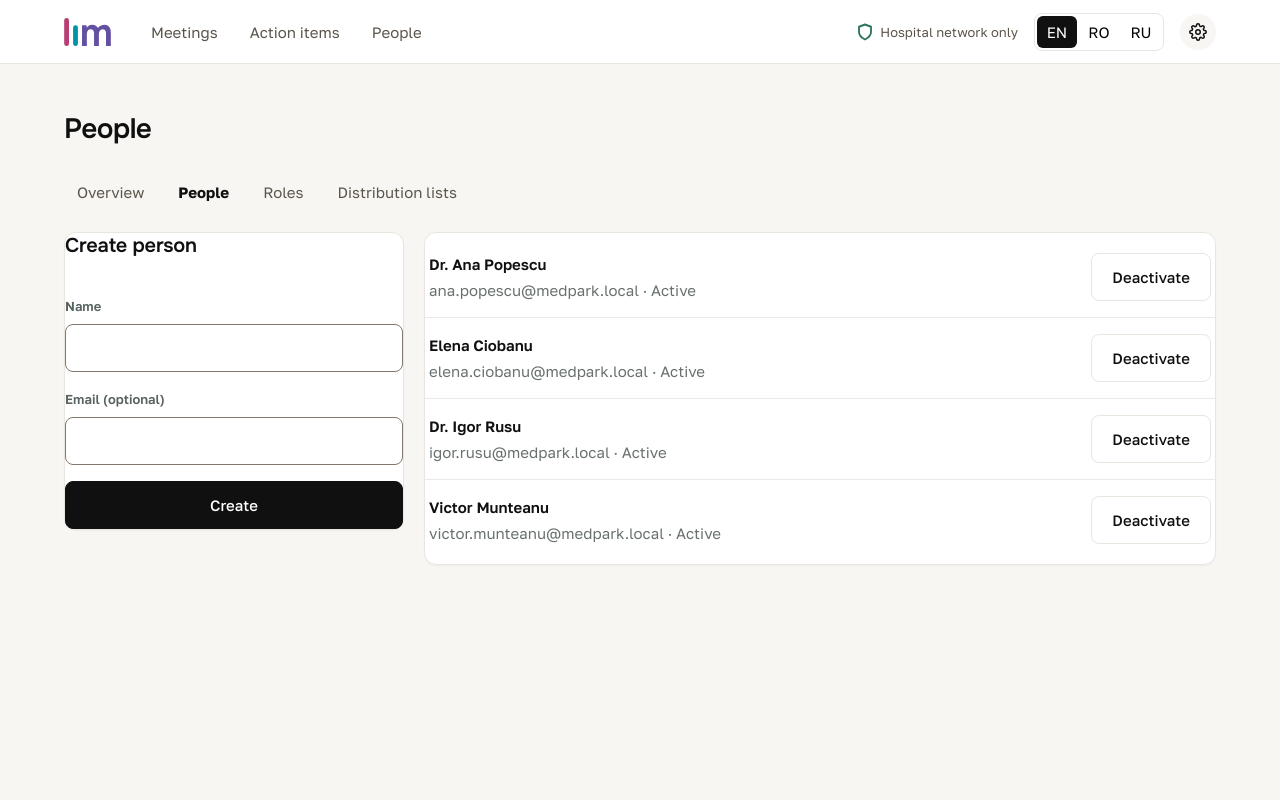
application flows › lets anyone add a person from the administration pages
Expected: the heading "People" is shown, [64,111,151,147]
Step 1. Type "Dr. Maria Lungu" into the field labelled "Name" → point(234, 348), box [65,324,403,372]
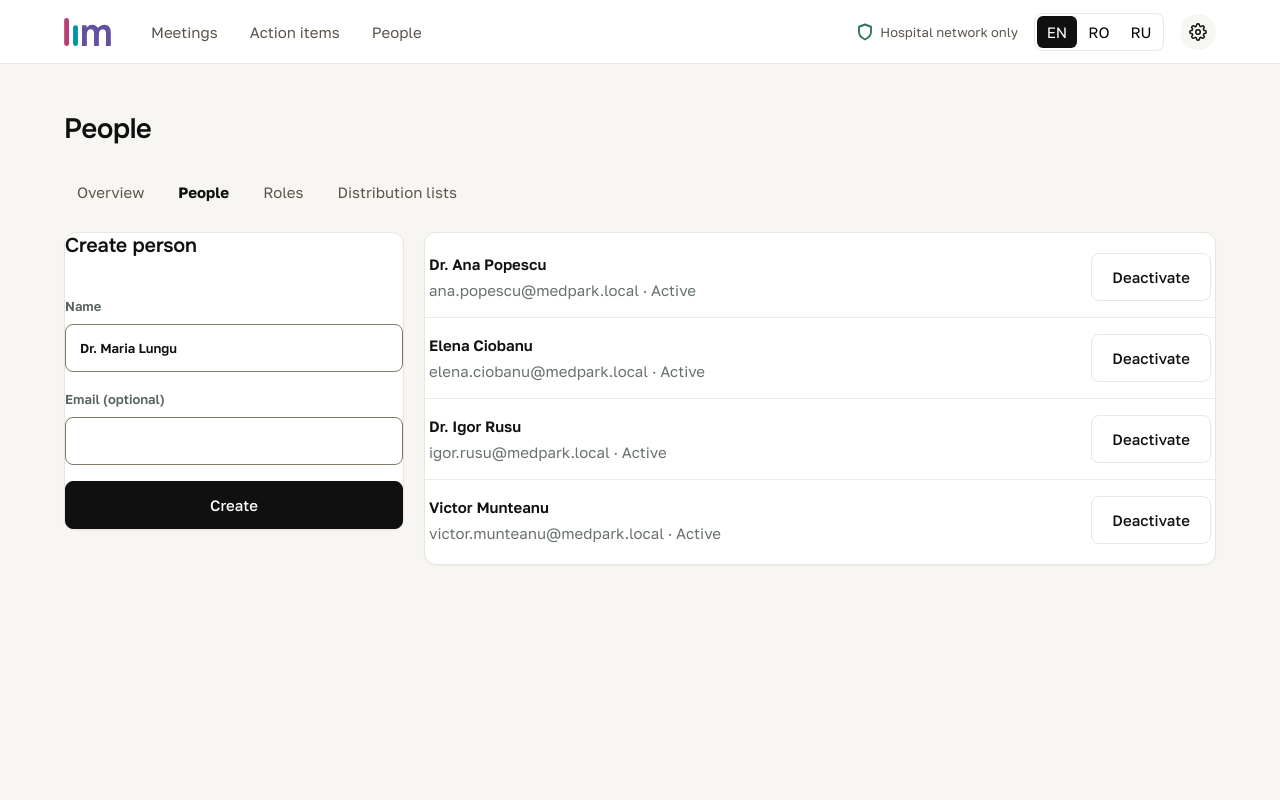
Step 2. Type "maria.lungu@medpark.local" into the field labelled "Email (optional)" → point(234, 441), box [65,417,403,465]
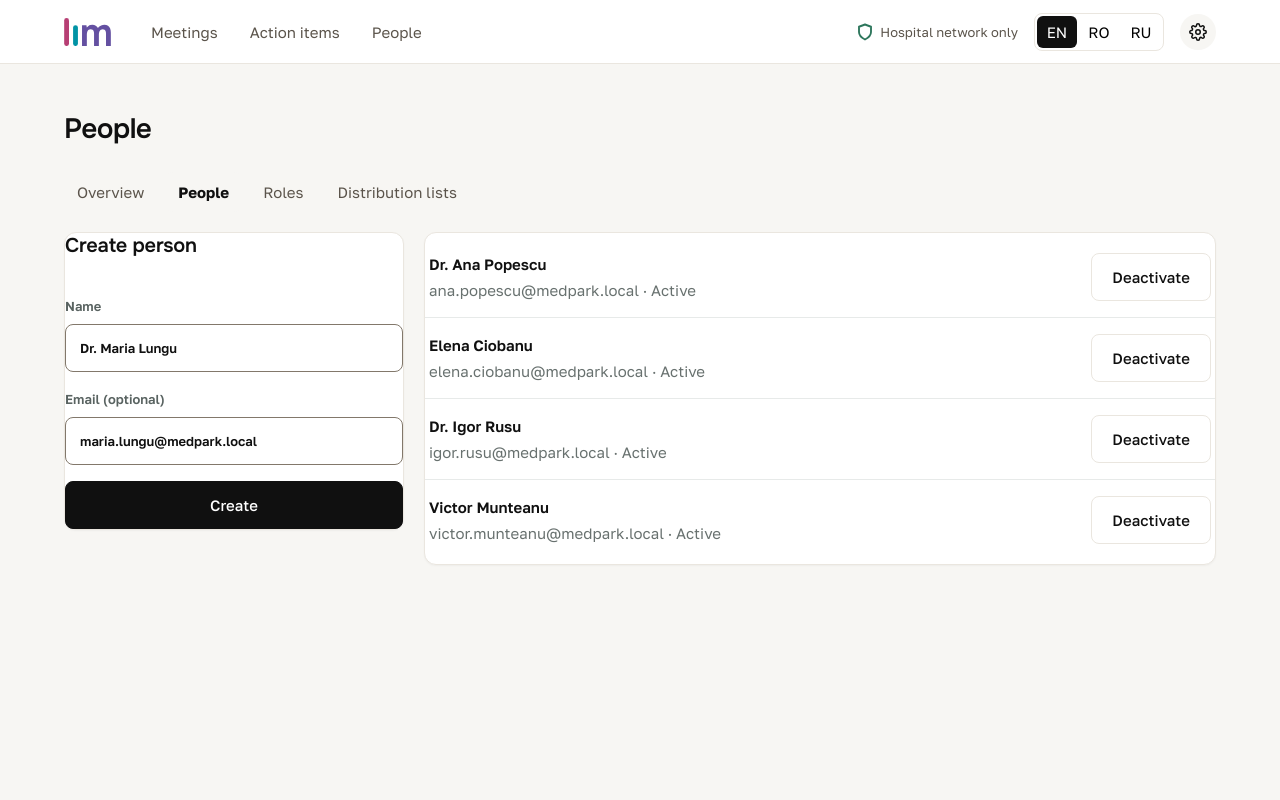
Step 3. Click the button "Create" → point(234, 505), box [65,481,403,529]
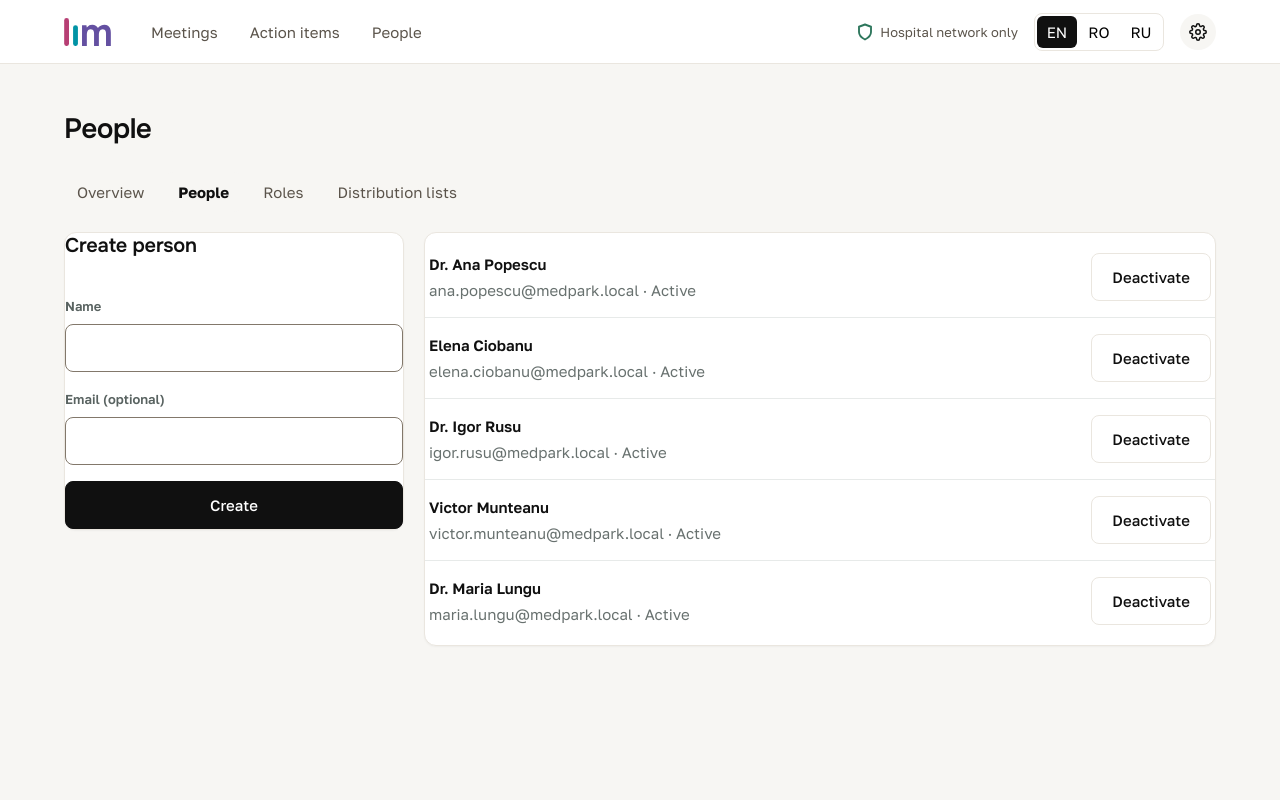
Now the text "Dr. Maria Lungu" is shown, box [429,579,541,597]
